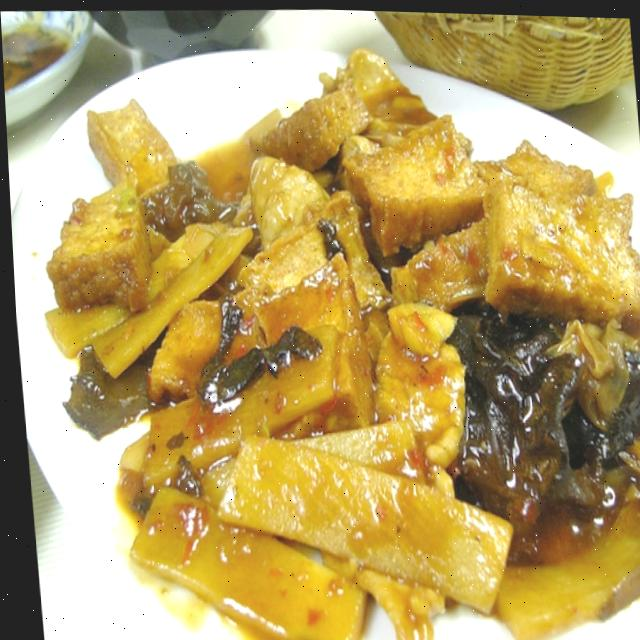豆腐料理: (22, 37, 640, 640)
